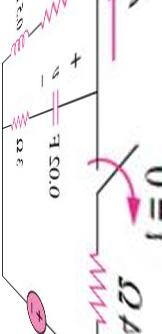inductor: (4, 20, 31, 55)
